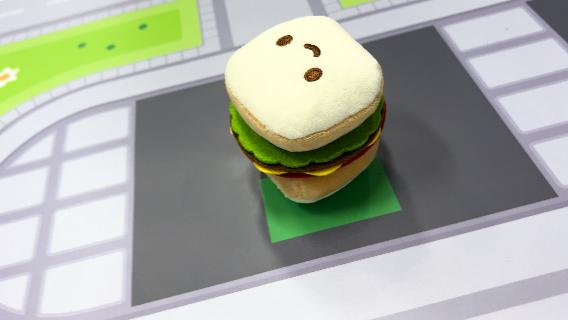sandwich: (221, 13, 390, 205)
